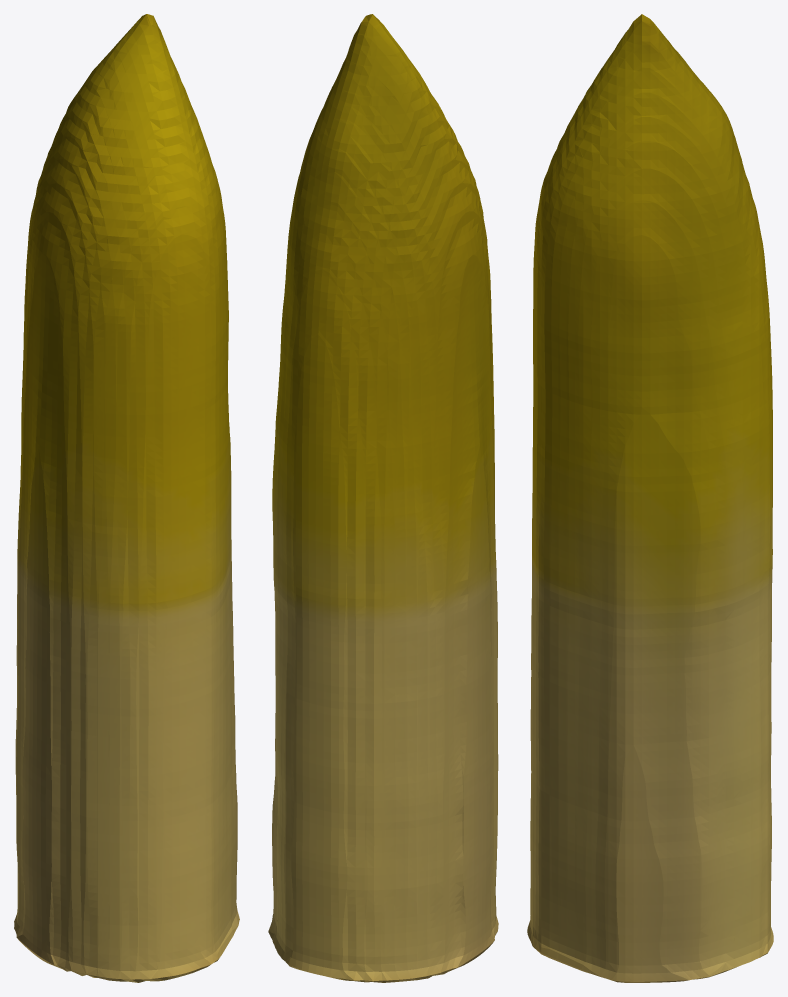
Rendered from bullet.glb.
3 renders of one model, left to right at view 1: azimuth 30°, elevation 25°; view 2: azimuth 150°, elevation 25°; view 3: azimuth 270°, elevation 25°, orthographic.
Parts seen in each view (by area): view 1: tmpa8_cuvk7.ply; view 2: tmpa8_cuvk7.ply; view 3: tmpa8_cuvk7.ply.
Boxes of the visible parts, bbox=[...] form: tmpa8_cuvk7.ply: bbox=[14, 14, 239, 982]; tmpa8_cuvk7.ply: bbox=[268, 14, 498, 982]; tmpa8_cuvk7.ply: bbox=[527, 14, 773, 982].
Bounding box in the file's own units: 0.4161 × 1.9 × 0.456.
